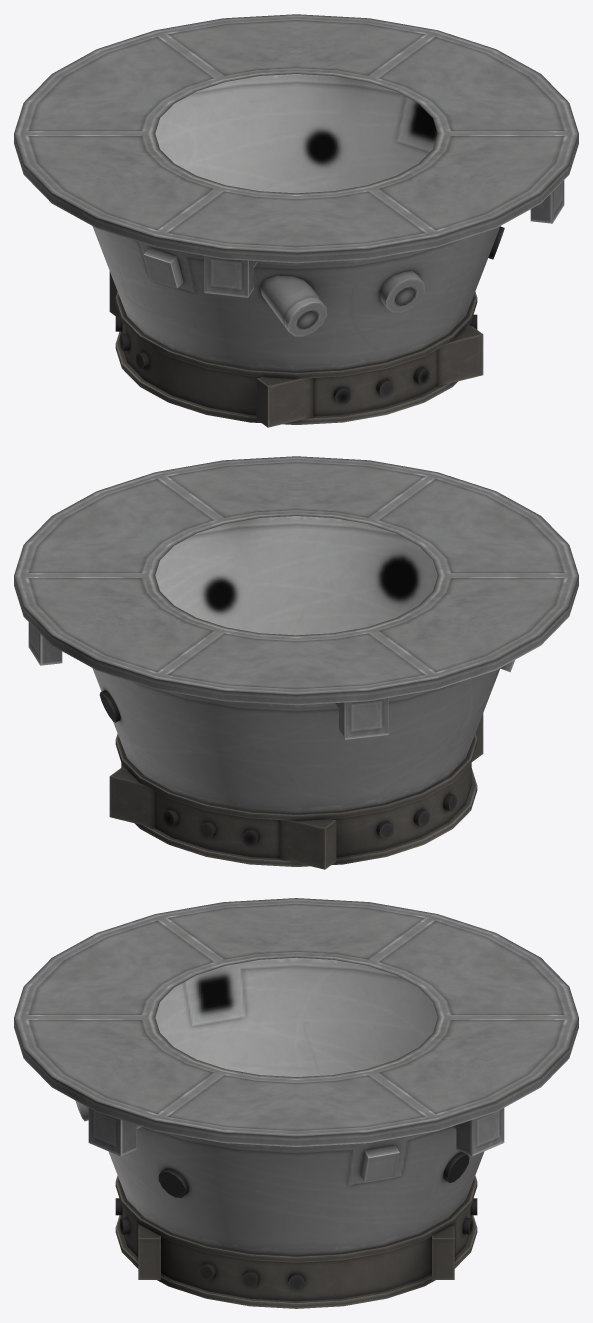
The model's file is 8el_avionics_s1_1_bare.obj.
The picture shows the model from 3 angles, top to bottom: view 1: azimuth 30°, elevation 25°; view 2: azimuth 150°, elevation 25°; view 3: azimuth 270°, elevation 25°; orthographic projection.
Visible parts, largest first — view 1: 1; view 2: 1; view 3: 1.
Part boxes in pixels (box(x1,y1,x2,y2)): 1: box(14, 14, 578, 427); 1: box(14, 456, 578, 869); 1: box(14, 898, 578, 1308).
Size of the model in its own units: 1.25 by 0.55 by 1.25.
1 material, 1 textured.
